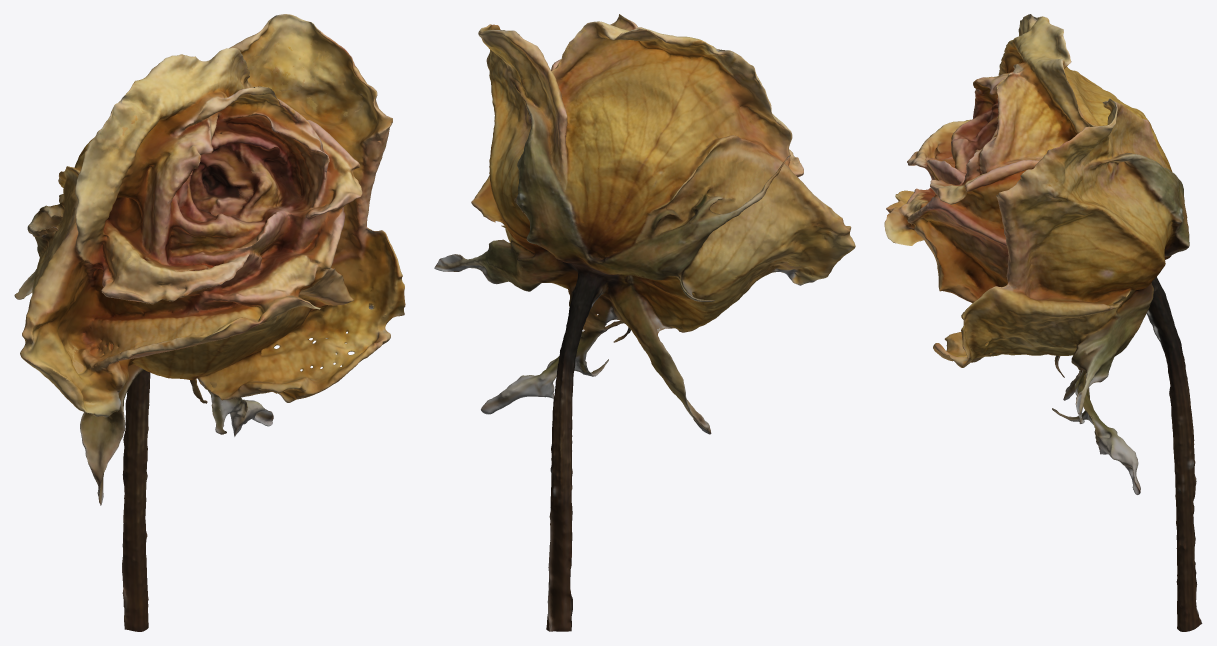
Rendered from piece-004.glb.
The picture shows the model from 3 angles, left to right: view 1: azimuth 30°, elevation 25°; view 2: azimuth 150°, elevation 25°; view 3: azimuth 270°, elevation 25°; orthographic projection. The views are drawn at different scales.
Parts seen in each view (by area): view 1: Object_2, Object_3, Object_4, Object_5; view 2: Object_3, Object_4, Object_5; view 3: Object_3, Object_2, Object_4, Object_5.
Boxes of the visible parts, left/top/right/bottom form: Object_2: left=122, top=86, right=405, bottom=396; Object_3: left=72, top=14, right=378, bottom=373; Object_4: left=14, top=29, right=362, bottom=631; Object_5: left=20, top=127, right=326, bottom=417; Object_3: left=434, top=14, right=801, bottom=291; Object_4: left=434, top=33, right=854, bottom=631; Object_5: left=514, top=67, right=855, bottom=338; Object_3: left=952, top=16, right=1179, bottom=423; Object_2: left=884, top=64, right=1071, bottom=367; Object_4: left=928, top=14, right=1202, bottom=631; Object_5: left=892, top=23, right=1189, bottom=350.
Bounding box in the file's own units: 0.1058 × 0.1521 × 0.0753.
1 material, 1 textured.
